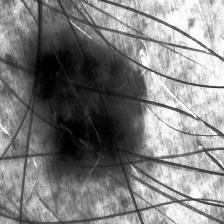Benign Marking or Mole: (18, 29, 152, 170)
